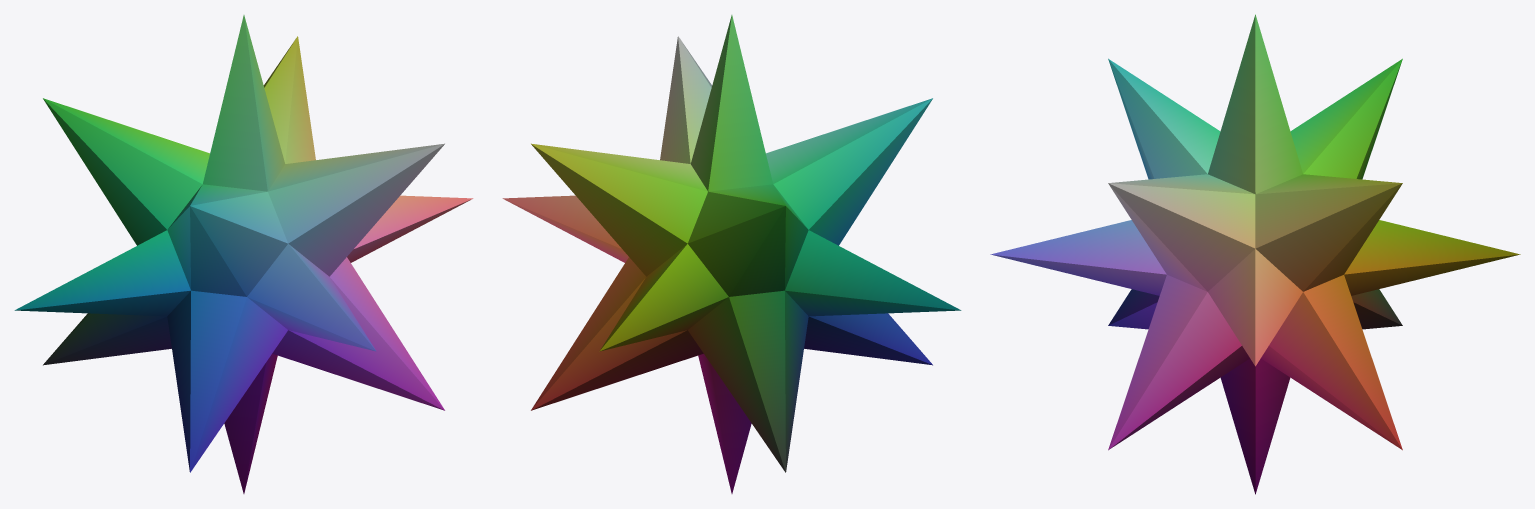
File: zeometry-stars-spikes-spiky-star_v1.glb
3 renders of one model, left to right at view 1: azimuth 30°, elevation 25°; view 2: azimuth 150°, elevation 25°; view 3: azimuth 270°, elevation 25°, orthographic.
Parts seen in each view (by area): view 1: Spiky Star_v1; view 2: Spiky Star_v1; view 3: Spiky Star_v1.
Part boxes in pixels (x1,y1,x2,y2): Spiky Star_v1: (14, 15, 473, 493); Spiky Star_v1: (502, 15, 961, 493); Spiky Star_v1: (990, 14, 1520, 494).
Bounding box in the file's own units: 0.5 × 0.5 × 0.5.
